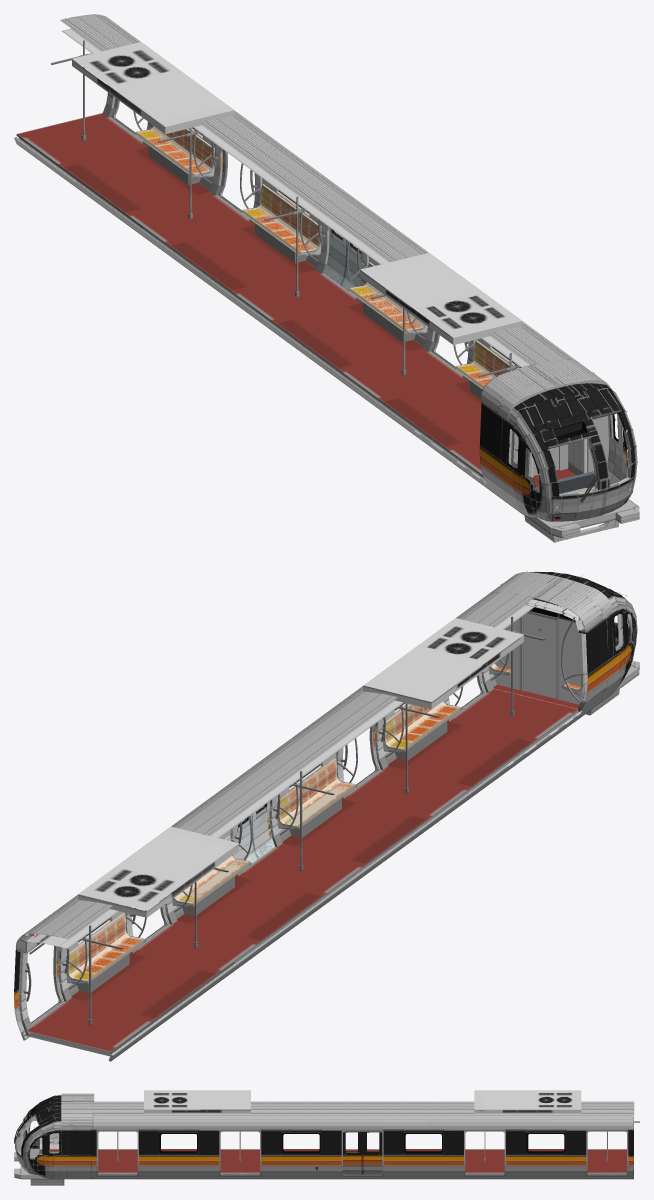
File: trm02.obj
3 renders of one model, top to bottom at view 1: azimuth 30°, elevation 25°; view 2: azimuth 150°, elevation 25°; view 3: azimuth 270°, elevation 25°, orthographic. The views are drawn at different scales.
Parts seen in each view (by area): view 1: inside, head, outside, ac, chairs, end, head_in, center_bones, door_left_in; view 2: inside, outside, ac, chairs, head_in, head, end, center_bones, end_in, door_border, door_right_in; view 3: outside, ac, inside, head, end, door_border, head_in, door_left, door_right, center_bones.
Boxes of the visible parts, x1,y1,x2,y2 form: inside: [16, 28, 530, 477]; head: [479, 359, 639, 542]; outside: [14, 14, 577, 490]; ac: [72, 42, 522, 344]; chairs: [133, 111, 516, 398]; end: [479, 359, 613, 509]; head_in: [511, 410, 632, 519]; center_bones: [51, 40, 519, 377]; door_left_in: [324, 227, 346, 285]; inside: [17, 605, 578, 1053]; outside: [14, 589, 580, 1061]; ac: [78, 618, 523, 917]; chairs: [66, 686, 463, 992]; head_in: [490, 576, 635, 708]; head: [492, 571, 639, 718]; end: [488, 572, 613, 718]; center_bones: [80, 616, 545, 1024]; end_in: [488, 603, 587, 711]; door_border: [19, 674, 485, 1024]; door_right_in: [252, 801, 274, 858]; outside: [88, 1101, 634, 1179]; ac: [144, 1090, 581, 1113]; inside: [98, 1121, 639, 1174]; head: [14, 1093, 93, 1185]; end: [61, 1093, 94, 1179]; door_border: [96, 1129, 628, 1176]; head_in: [16, 1114, 60, 1171]; door_left: [362, 1131, 382, 1174]; door_right: [343, 1131, 362, 1174]; center_bones: [117, 1131, 608, 1161].
Bounding box in the file's own units: 2.92 × 3.45 × 25.58.
1 material, 1 textured.
